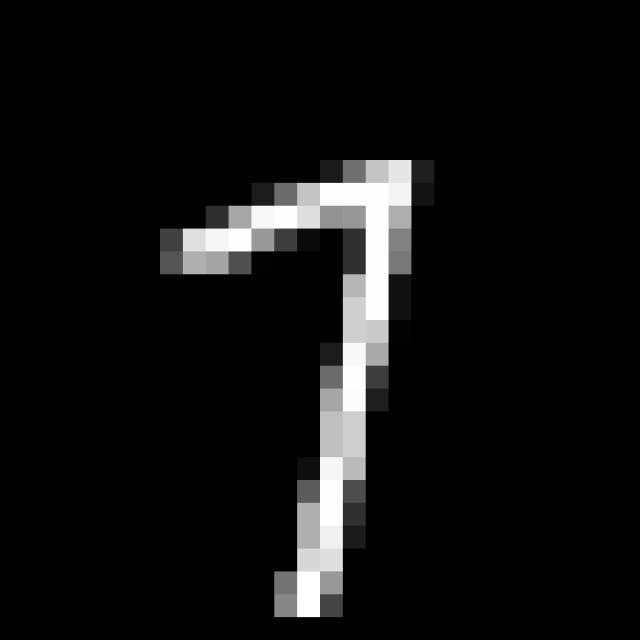seven -7-: (164, 137, 428, 626)
